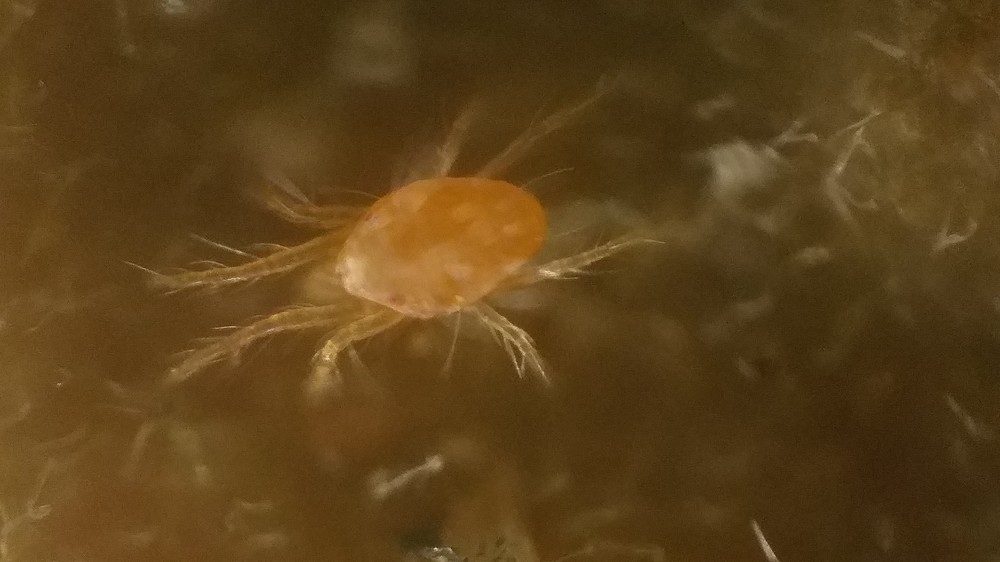Aracnido Rojo: (159, 47, 666, 425)
